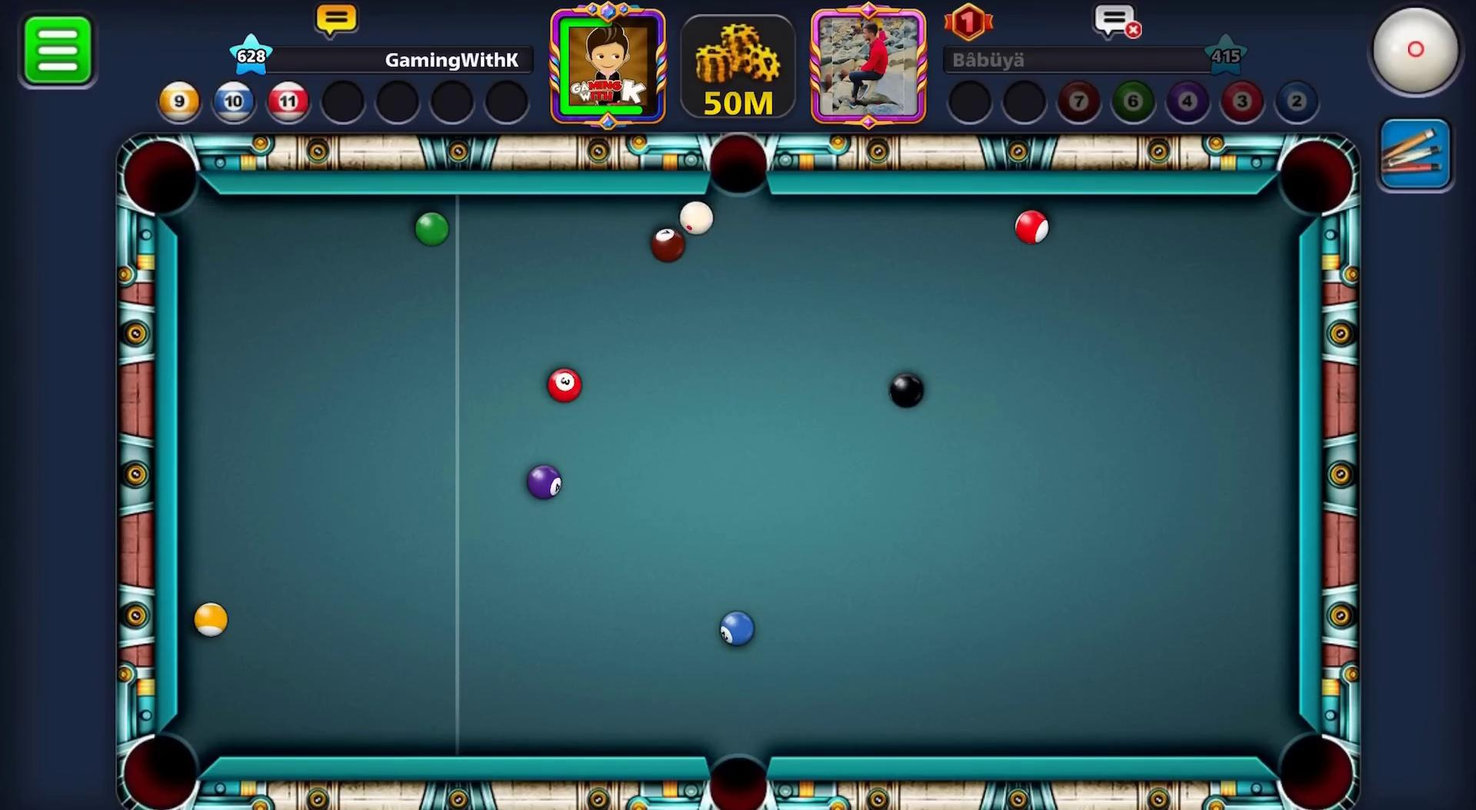Ball: (511, 452, 573, 505), (185, 590, 235, 648), (538, 359, 587, 409), (882, 369, 930, 413), (715, 603, 756, 653), (644, 222, 690, 266), (1007, 205, 1054, 248), (408, 210, 450, 249)
Hole: (1253, 705, 1372, 809), (101, 709, 224, 809), (105, 124, 211, 228), (1264, 128, 1364, 230), (684, 711, 776, 809), (701, 120, 789, 216)
Play_Area: (179, 193, 1298, 758)
Spin: (1361, 0, 1475, 111)
White: (672, 197, 715, 237)
